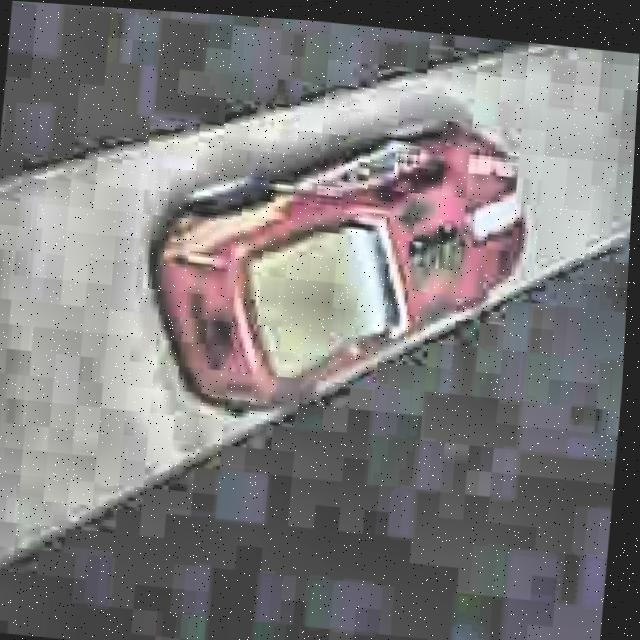car: (127, 85, 540, 446)
